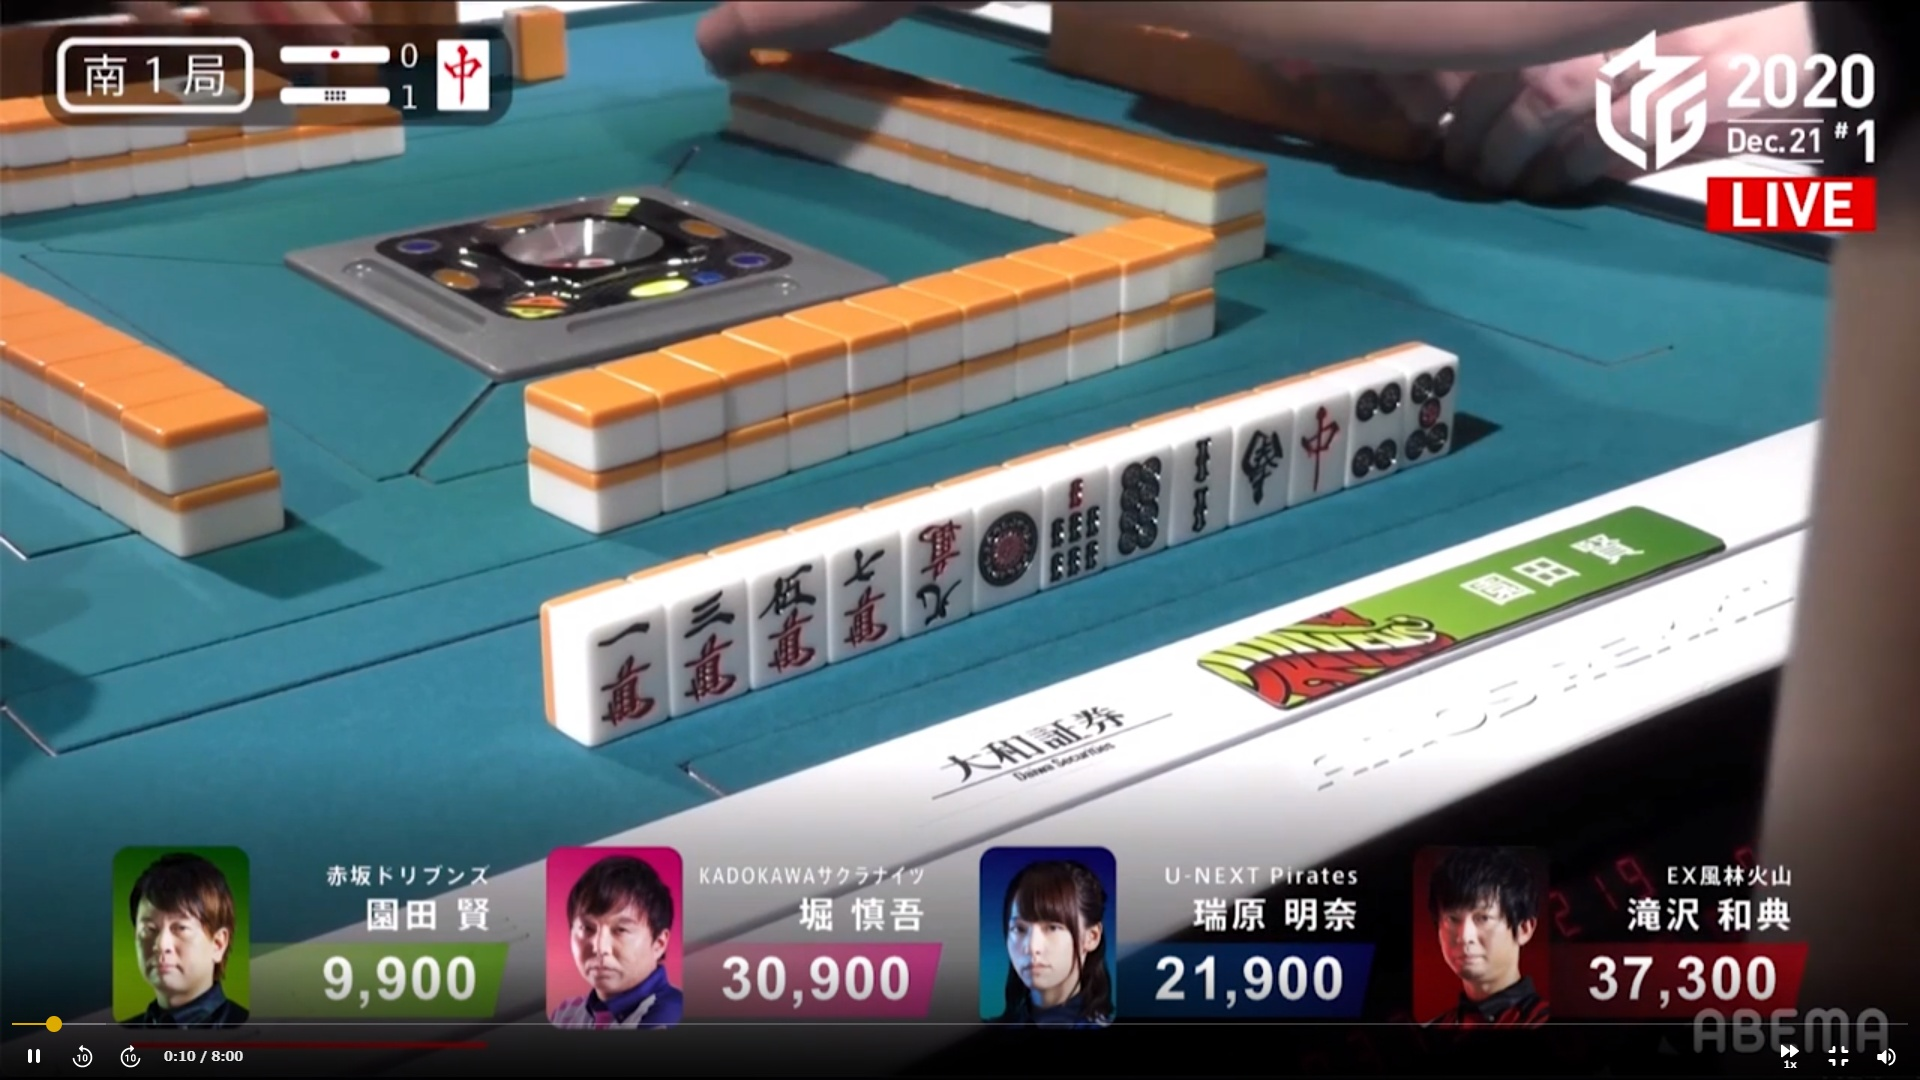1m: (585, 603, 665, 737)
1p: (975, 493, 1038, 604)
2s: (1172, 429, 1226, 542)
3m: (666, 580, 748, 712)
4p: (1348, 375, 1403, 475)
5m: (753, 554, 820, 679)
5p: (1404, 364, 1451, 462)
7m: (822, 535, 898, 655)
7s: (1040, 475, 1108, 588)
8p: (1110, 451, 1163, 560)
9m: (898, 513, 975, 634)
chun: (1288, 392, 1349, 502)
hand_nan_1: (55, 30, 258, 120)
nan: (1229, 417, 1287, 516)
round_1: (266, 76, 419, 112)
team_drivens: (1195, 591, 1465, 713)
